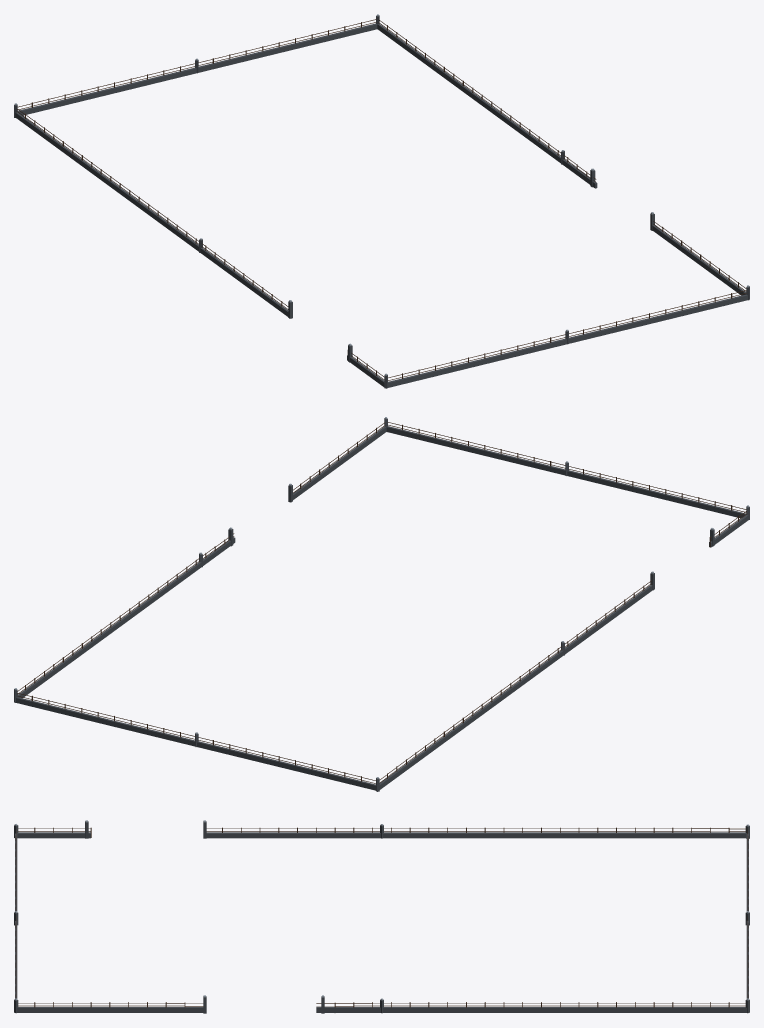
Rendered from Station_Fence_0_0.fbx.
3 views of the same model, one above another, from view 1: azimuth 30°, elevation 25°; view 2: azimuth 150°, elevation 25°; view 3: azimuth 270°, elevation 25° (orthographic).
Parts seen in each view (by area): view 1: Station_Fence_0_0; view 2: Station_Fence_0_0; view 3: Station_Fence_0_0.
Boxes of the visible parts, <box> form: Station_Fence_0_0: <box>14,14,749,388</box>; Station_Fence_0_0: <box>14,417,749,791</box>; Station_Fence_0_0: <box>14,820,749,1013</box>.
Bounding box in the file's own units: 7071 × 335 × 12471.
